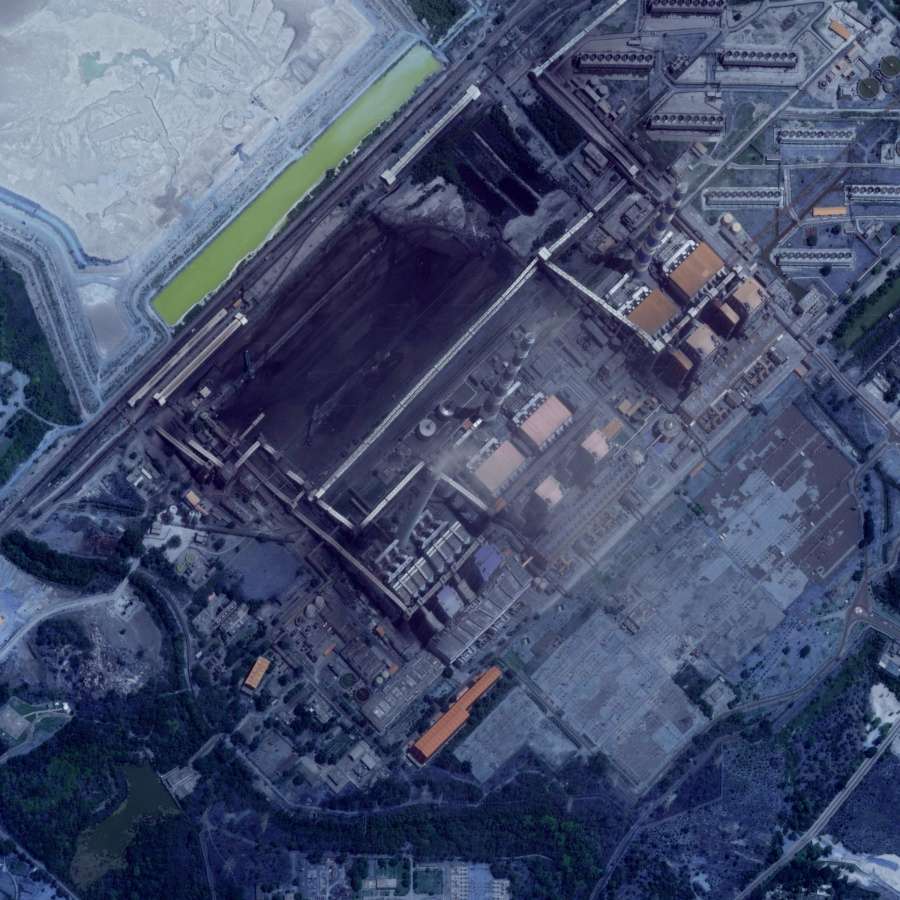PowerPlant: (140, 48, 665, 555)
